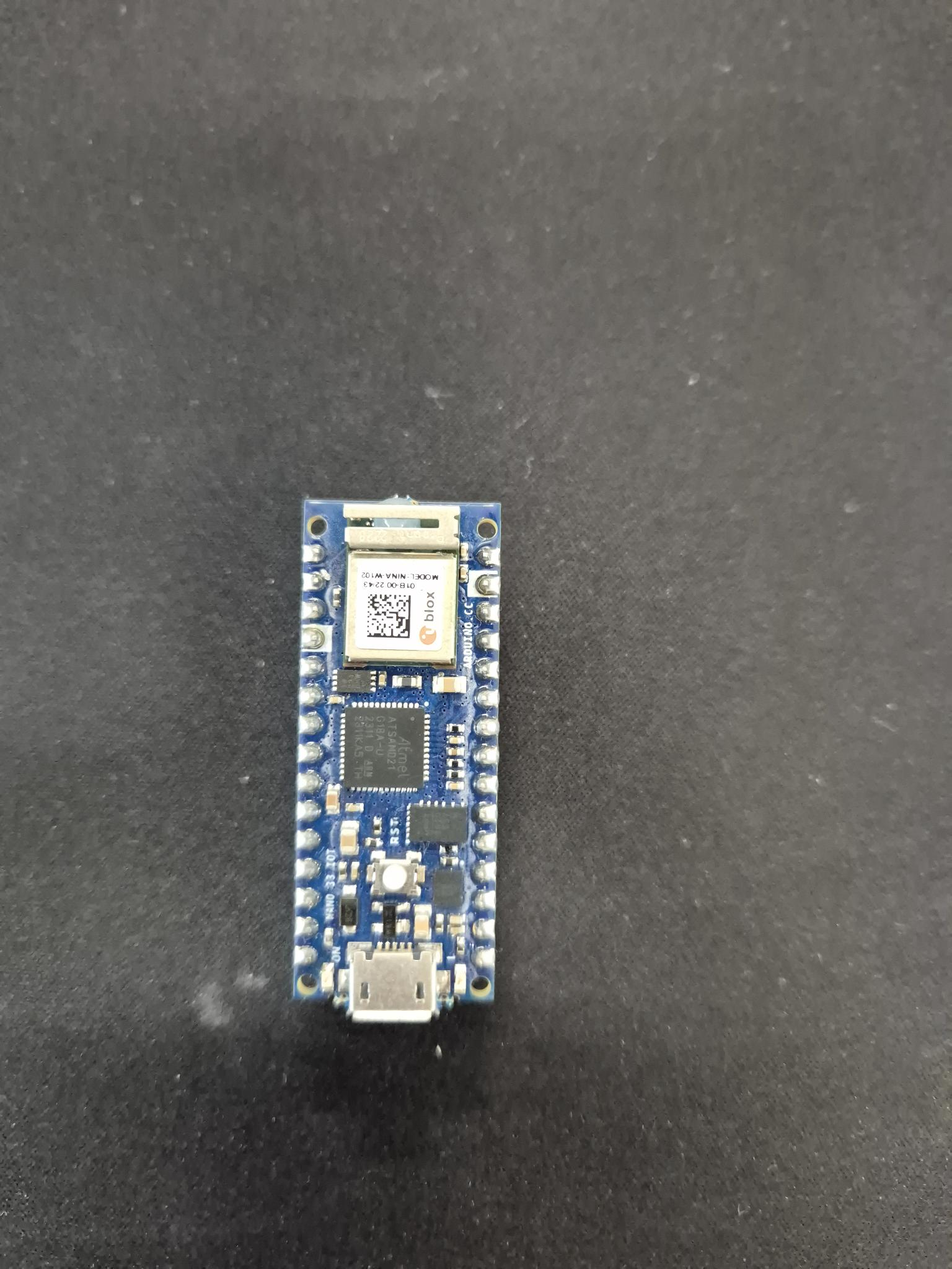arduino-nano-iot-33: (294, 489, 506, 1012)
